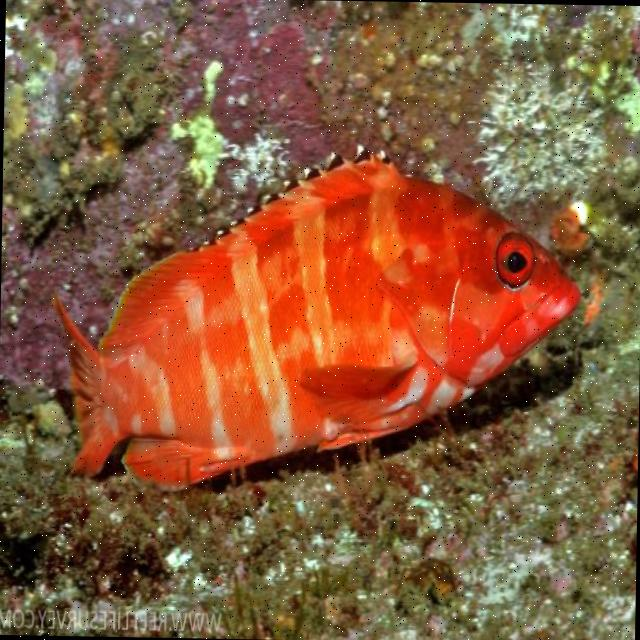ikan: (48, 137, 586, 500)
